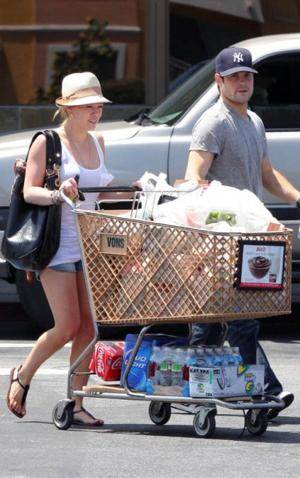person: (5, 68, 115, 431)
